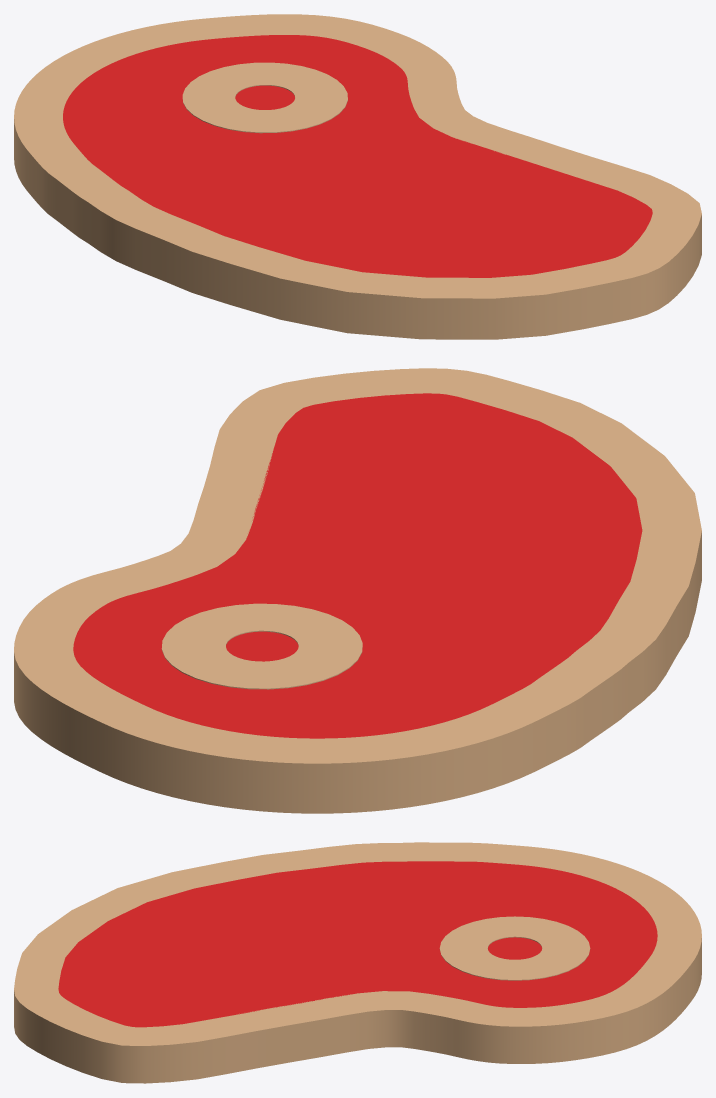
The model's file is Et çiğ part 3.fbx.
The picture shows the model from 3 angles, top to bottom: view 1: azimuth 30°, elevation 25°; view 2: azimuth 150°, elevation 25°; view 3: azimuth 270°, elevation 25°; orthographic projection. The views are drawn at different scales.
Parts seen in each view (by area): view 1: Cylinder.001; view 2: Cylinder.001; view 3: Cylinder.001.
Boxes of the visible parts, left/top/right/bottom form: Cylinder.001: left=14, top=14, right=701, bottom=339; Cylinder.001: left=14, top=368, right=701, bottom=813; Cylinder.001: left=14, top=842, right=701, bottom=1083.
Bounding box in the file's own units: 15.74 × 1.4 × 22.48.
